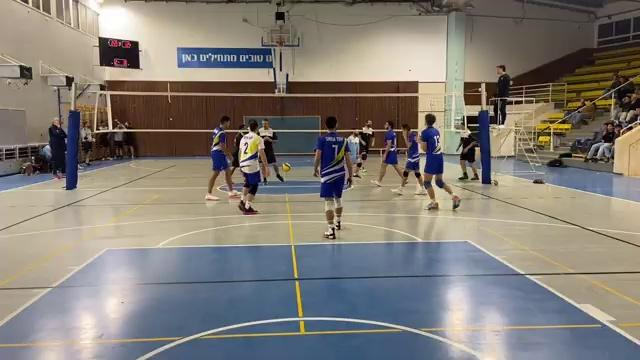ball: (277, 162, 297, 175)
